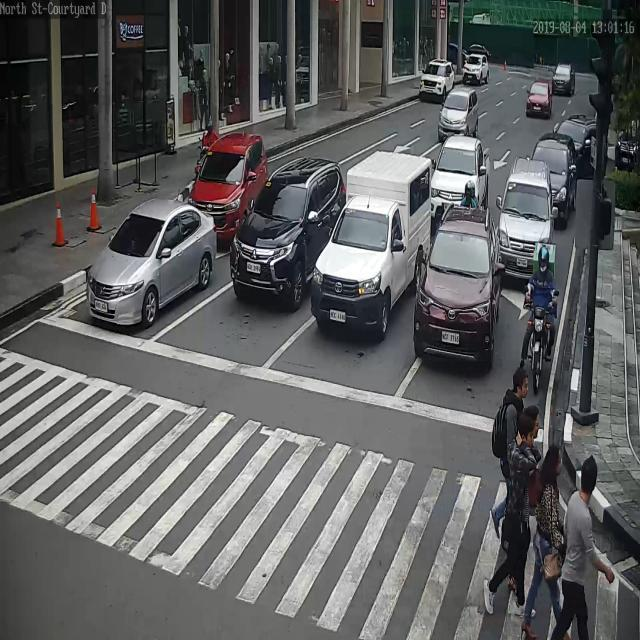car: (230, 158, 347, 311), (87, 201, 218, 331), (415, 214, 498, 365), (184, 131, 270, 243), (493, 159, 556, 276), (430, 136, 487, 208), (532, 130, 576, 223), (557, 115, 607, 177), (438, 87, 478, 139), (419, 61, 456, 105), (614, 116, 640, 172), (526, 79, 554, 118), (462, 52, 490, 84), (552, 62, 577, 95)
jeepney: (523, 238, 559, 392), (195, 116, 218, 179), (458, 176, 482, 215)
van: (310, 148, 432, 339)
